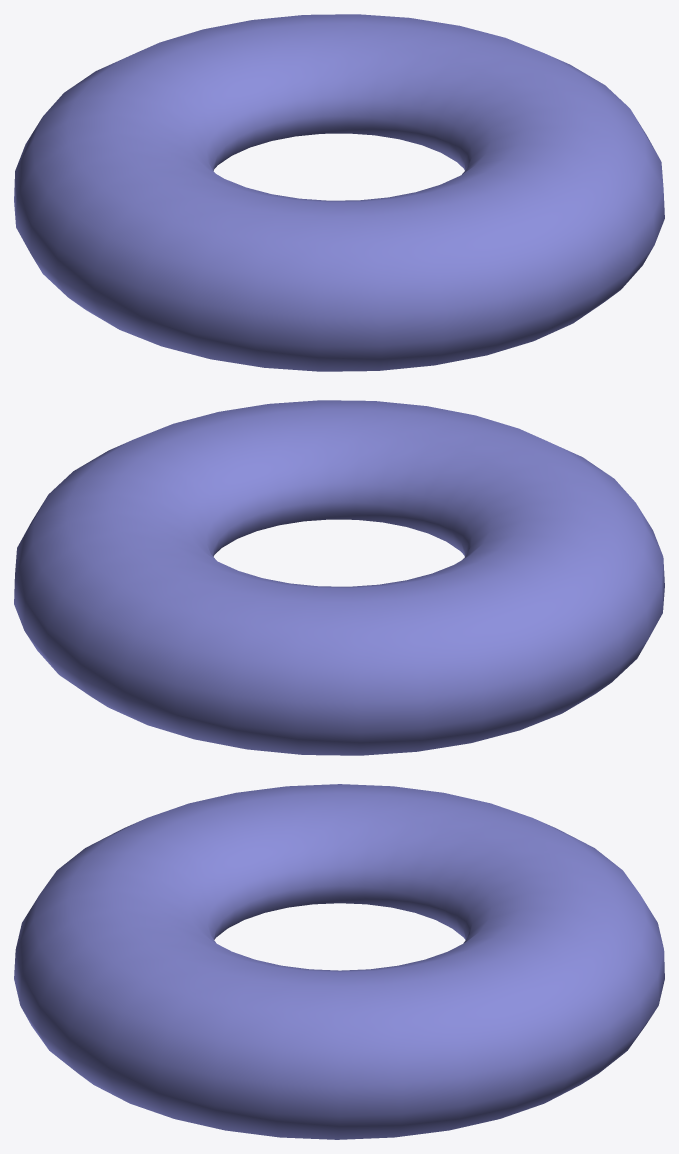
The model's file is Donut_Icing_02.fbx.
3 views of the same model, one above another, from view 1: azimuth 30°, elevation 25°; view 2: azimuth 150°, elevation 25°; view 3: azimuth 270°, elevation 25° (orthographic).
Parts seen in each view (by area): view 1: Donut_Icing_02_LOD0; view 2: Donut_Icing_02_LOD0; view 3: Donut_Icing_02_LOD0.
Boxes of the visible parts, x1,y1,x2,y2 form: Donut_Icing_02_LOD0: [14, 14, 664, 371]; Donut_Icing_02_LOD0: [14, 400, 664, 755]; Donut_Icing_02_LOD0: [14, 784, 664, 1139].
Size of what is drawn, in the model's own units: 554 by 119 by 554.
